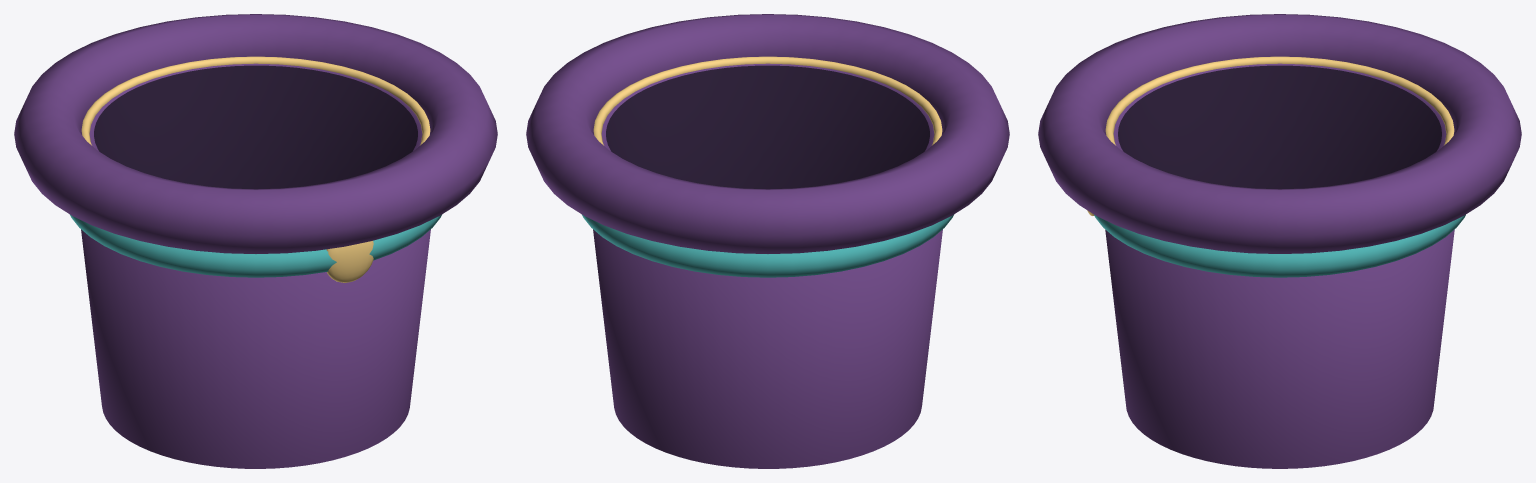
The model's file is q_magic_hat.glb.
3 views of the same model, side by side, from view 1: azimuth 30°, elevation 25°; view 2: azimuth 150°, elevation 25°; view 3: azimuth 270°, elevation 25° (orthographic).
Parts seen in each view (by area): view 1: q_magic_hat / material batches; view 2: q_magic_hat / material batches; view 3: q_magic_hat / material batches.
Part boxes in pixels (box(x1,y1,x2,y2)): q_magic_hat / material batches: box(14, 14, 497, 468); q_magic_hat / material batches: box(526, 14, 1009, 468); q_magic_hat / material batches: box(1038, 14, 1521, 468).
Size of the model in its own units: 0.91 by 0.625 by 0.91.
